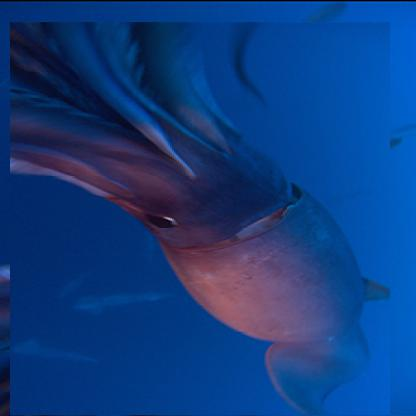colossal_squid: (9, 21, 390, 415)
